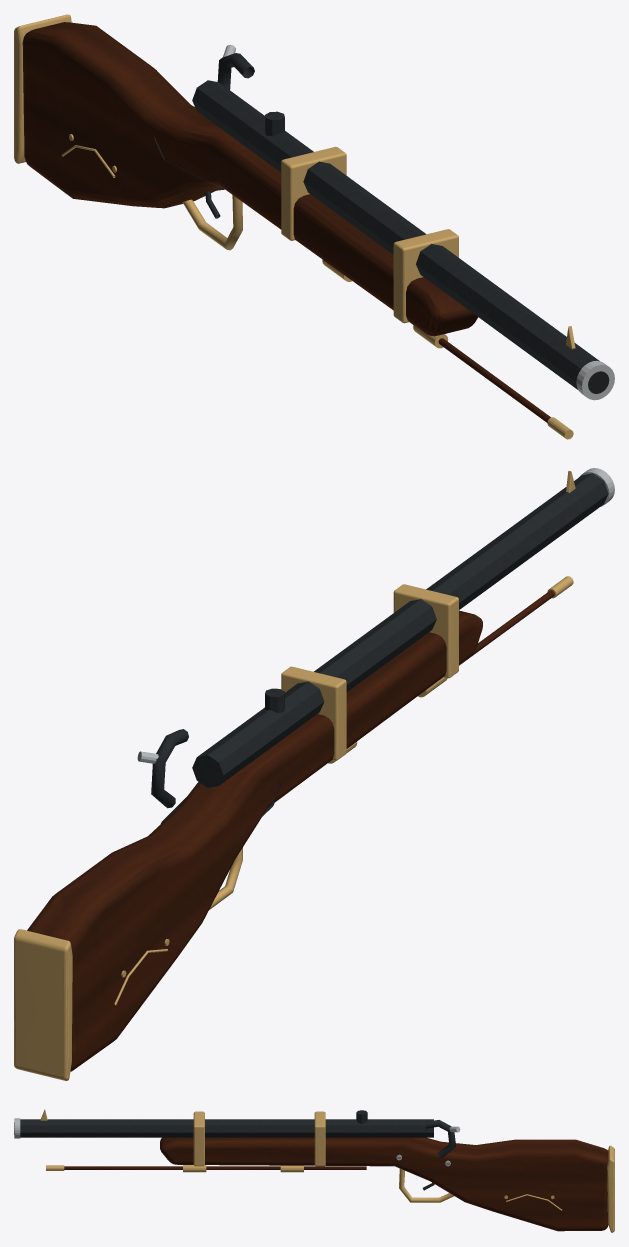
Rendered from Muzzleloader.fbx.
3 renders of one model, top to bottom at view 1: azimuth 30°, elevation 25°; view 2: azimuth 150°, elevation 25°; view 3: azimuth 270°, elevation 25°, orthographic. The views are drawn at different scales.
Visible parts, largest first — view 1: MuzzleloaderBody, RamrodMesh, HammerMesh; view 2: MuzzleloaderBody, HammerMesh, RamrodMesh; view 3: MuzzleloaderBody, RamrodMesh, HammerMesh.
Part boxes in pixels (x1=…): MuzzleloaderBody: x1=14, y1=14, x2=614, y2=400; RamrodMesh: x1=410, y1=322, x2=573, y2=439; HammerMesh: x1=217, y1=44, x2=254, y2=89; MuzzleloaderBody: x1=14, y1=468, x2=614, y2=1080; HammerMesh: x1=137, y1=729, x2=188, y2=808; RamrodMesh: x1=459, y1=576, x2=573, y2=665; MuzzleloaderBody: x1=14, y1=1109, x2=614, y2=1232; RamrodMesh: x1=46, y1=1165, x2=366, y2=1170; HammerMesh: x1=424, y1=1120, x2=460, y2=1158.
Bounding box in the file's own units: 10.33 × 27.84 × 129.
Materials: 5 (2 with a texture image).
